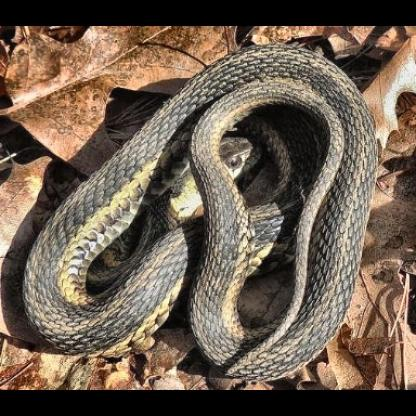Snake: (19, 37, 377, 382)
